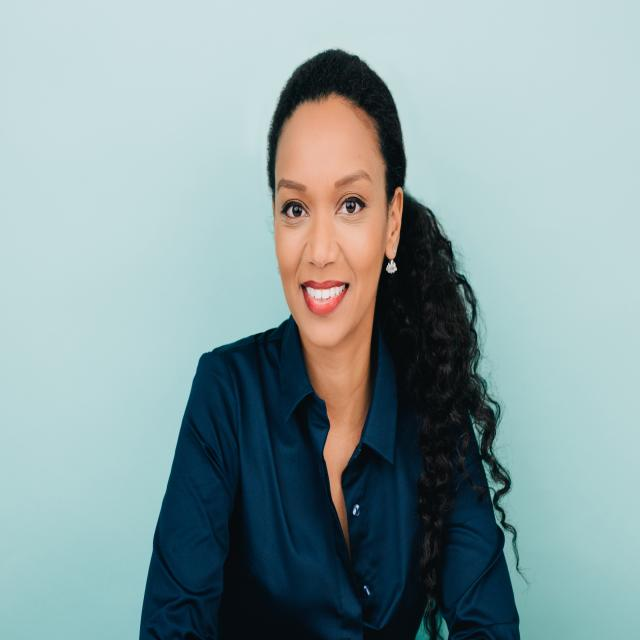sem_oculos: (268, 170, 397, 232)
